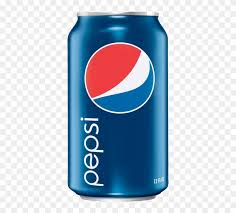pepsi: (83, 42, 162, 115), (81, 114, 106, 192)
